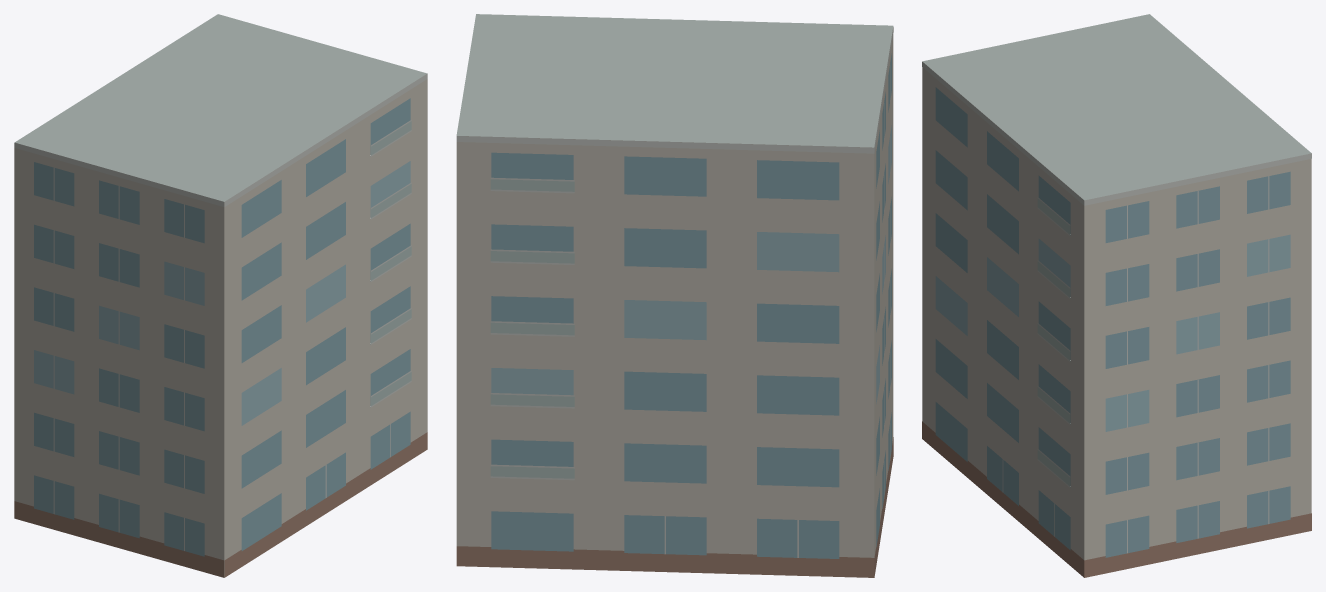
Rendered from survey-upis-33004076.glb.
3 renders of one model, left to right at view 1: azimuth 30°, elevation 25°; view 2: azimuth 150°, elevation 25°; view 3: azimuth 270°, elevation 25°, orthographic. The views are drawn at different scales.
Parts seen in each view (by area): view 1: survey-upis-33004076.tmp; view 2: survey-upis-33004076.tmp; view 3: survey-upis-33004076.tmp.
Boxes of the visible parts, left/top/right/bottom form: survey-upis-33004076.tmp: left=14, top=14, right=427, bottom=577; survey-upis-33004076.tmp: left=456, top=14, right=893, bottom=577; survey-upis-33004076.tmp: left=922, top=14, right=1311, bottom=577.
Bounding box in the file's own units: 18.01 × 17 × 15.91.
